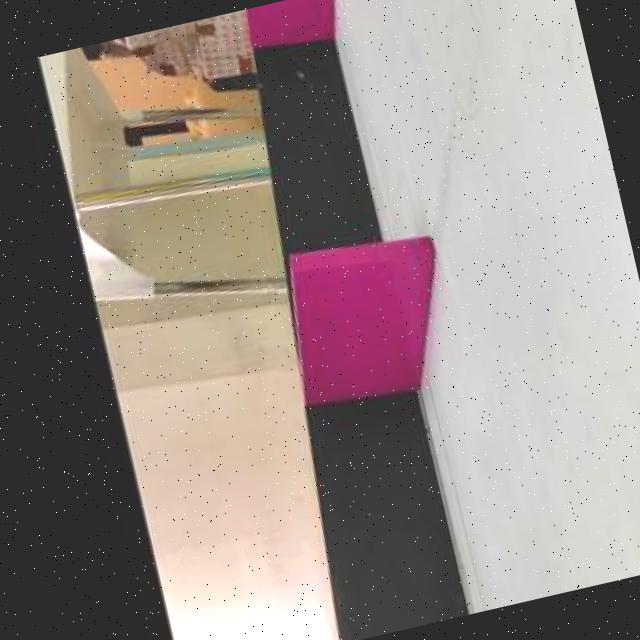xparking: (285, 233, 452, 400), (239, 0, 336, 49)
